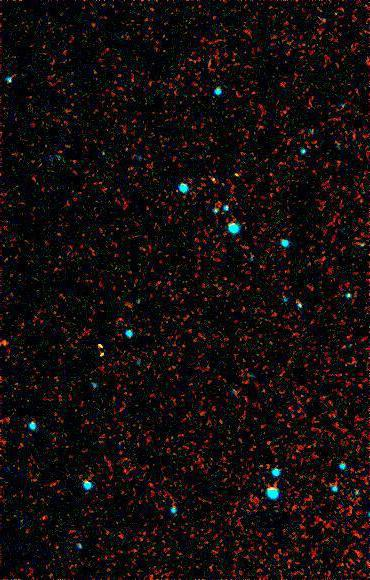star: (0, 324, 22, 354)
